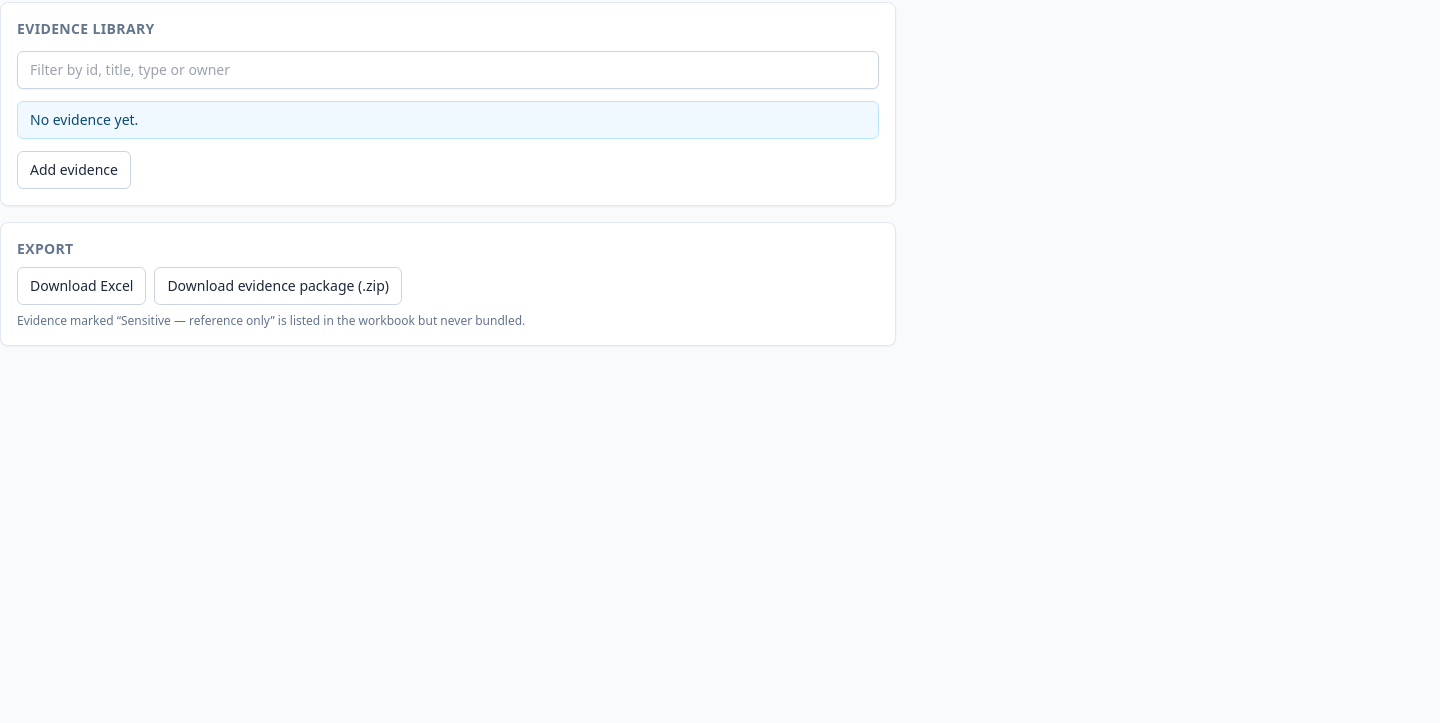
Test: Tier 2 — evidence › rejects code evidence without a pinned commit SHA
The width and height of the screenshot is (1440, 723).
Click the button "Add evidence": (74, 170) [17,151,131,189]
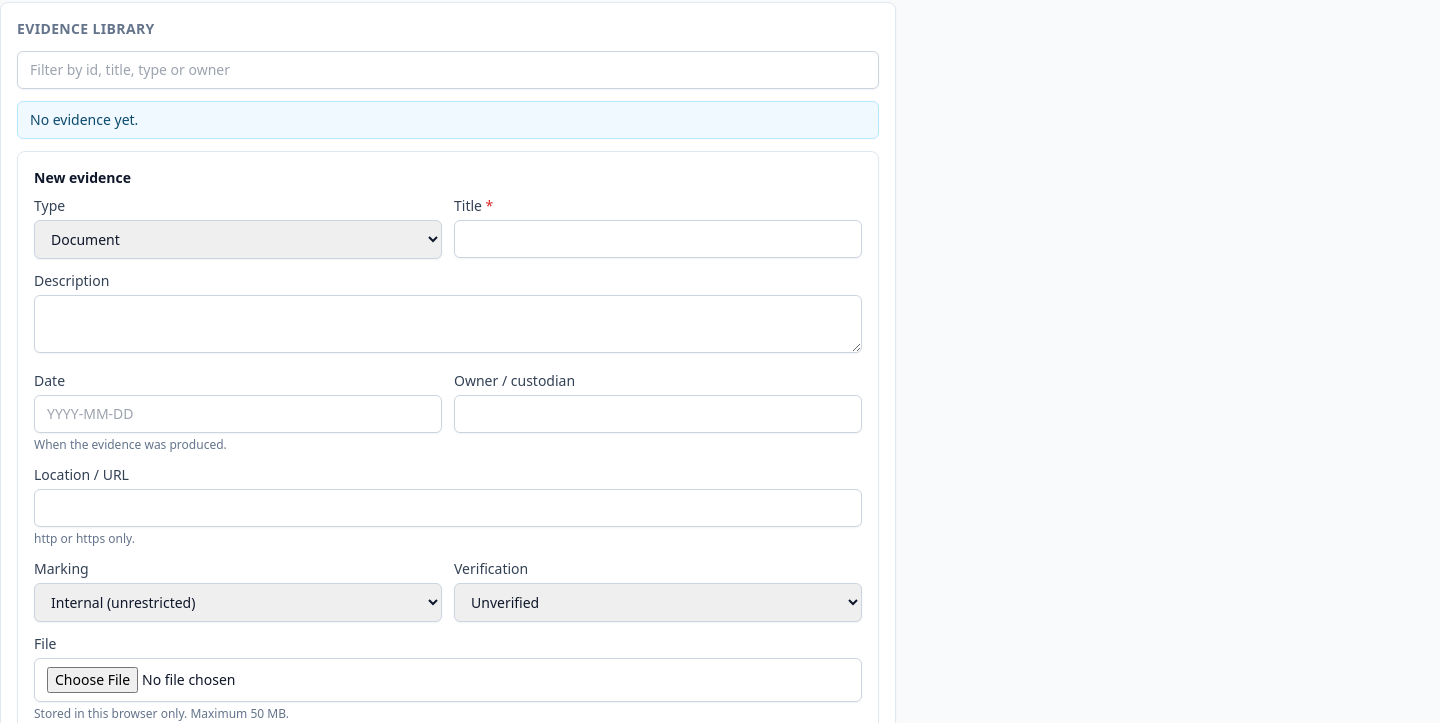
Select "Code repository" in the dropdown labelled "Type": (238, 240) [34,220,442,259]
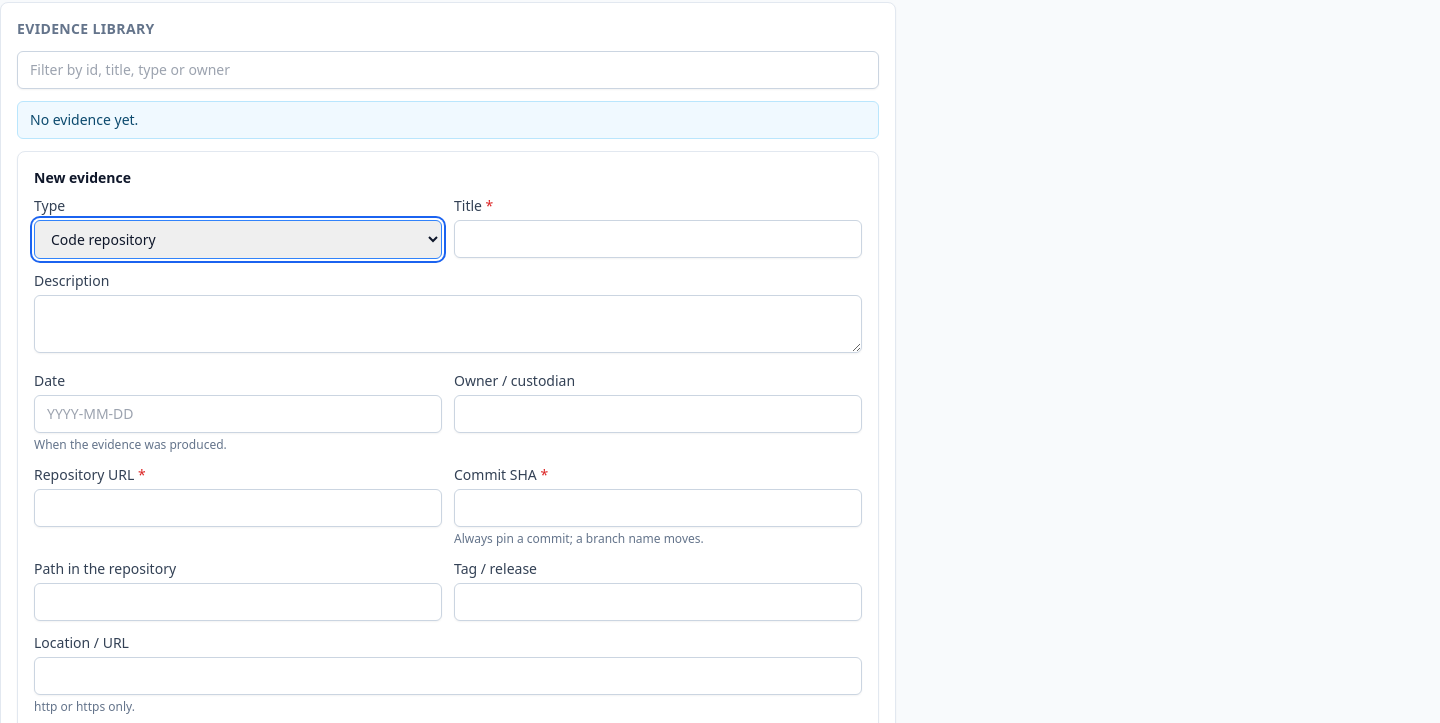
In the field labelled "Title *": (658, 239) [454,220,862,258], type "Firmware"
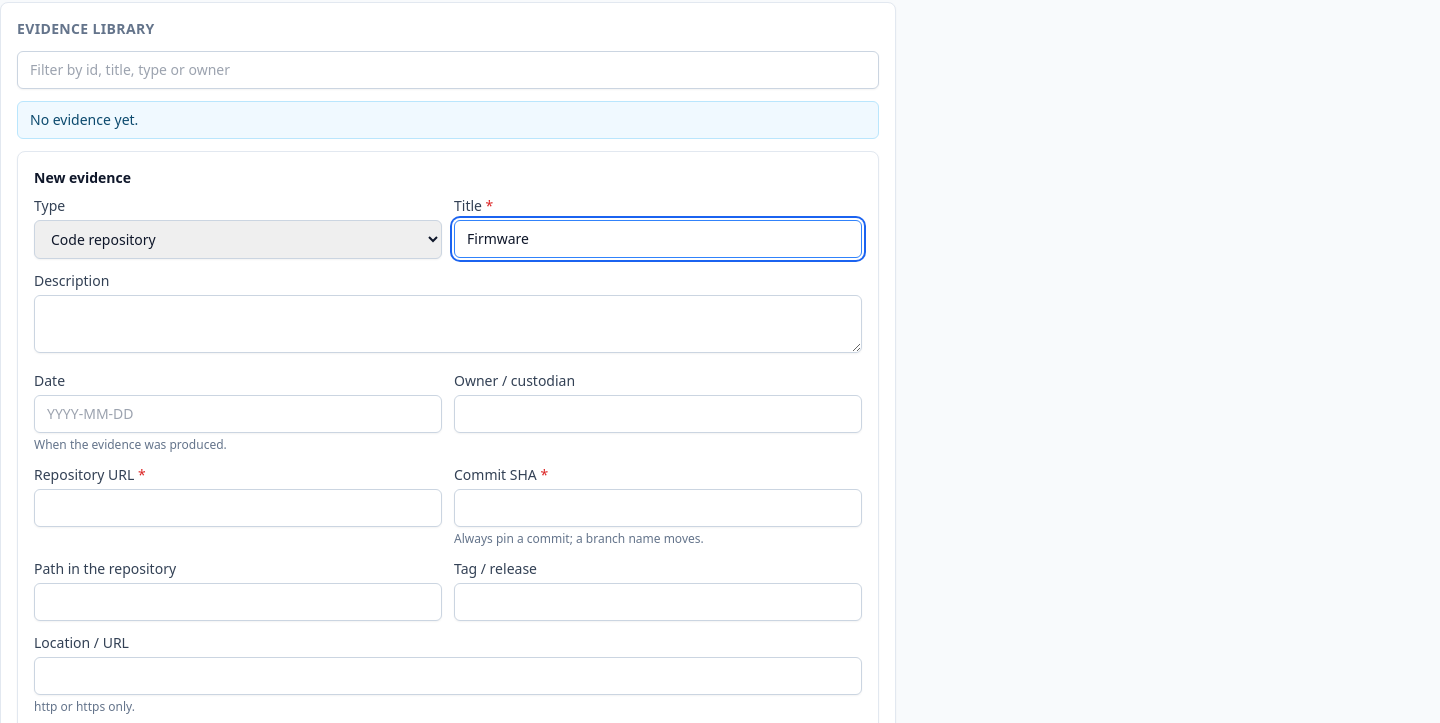
In the field labelled "Repository URL *": (238, 508) [34,489,442,527], type "https://example.org/repo"
(page scrolled)
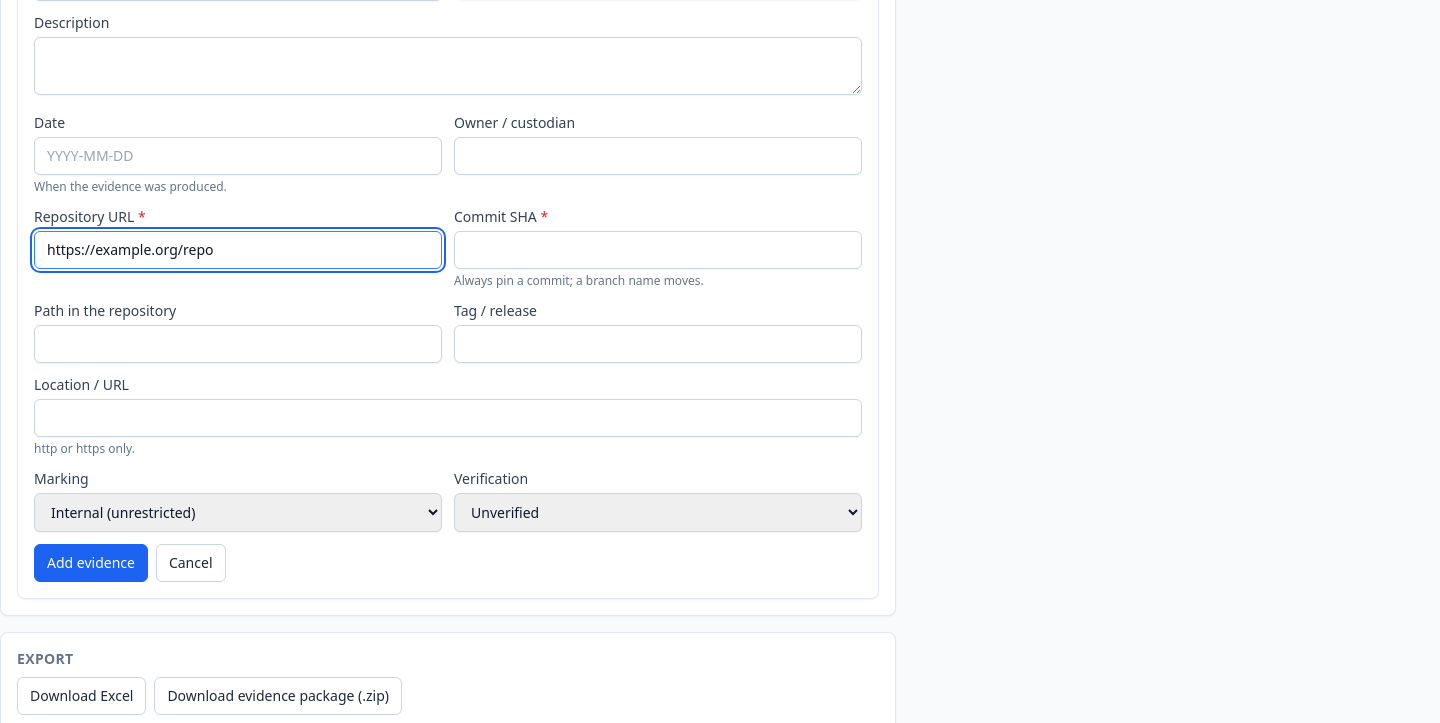
Click the button "Add evidence": (91, 563) [34,544,148,582]
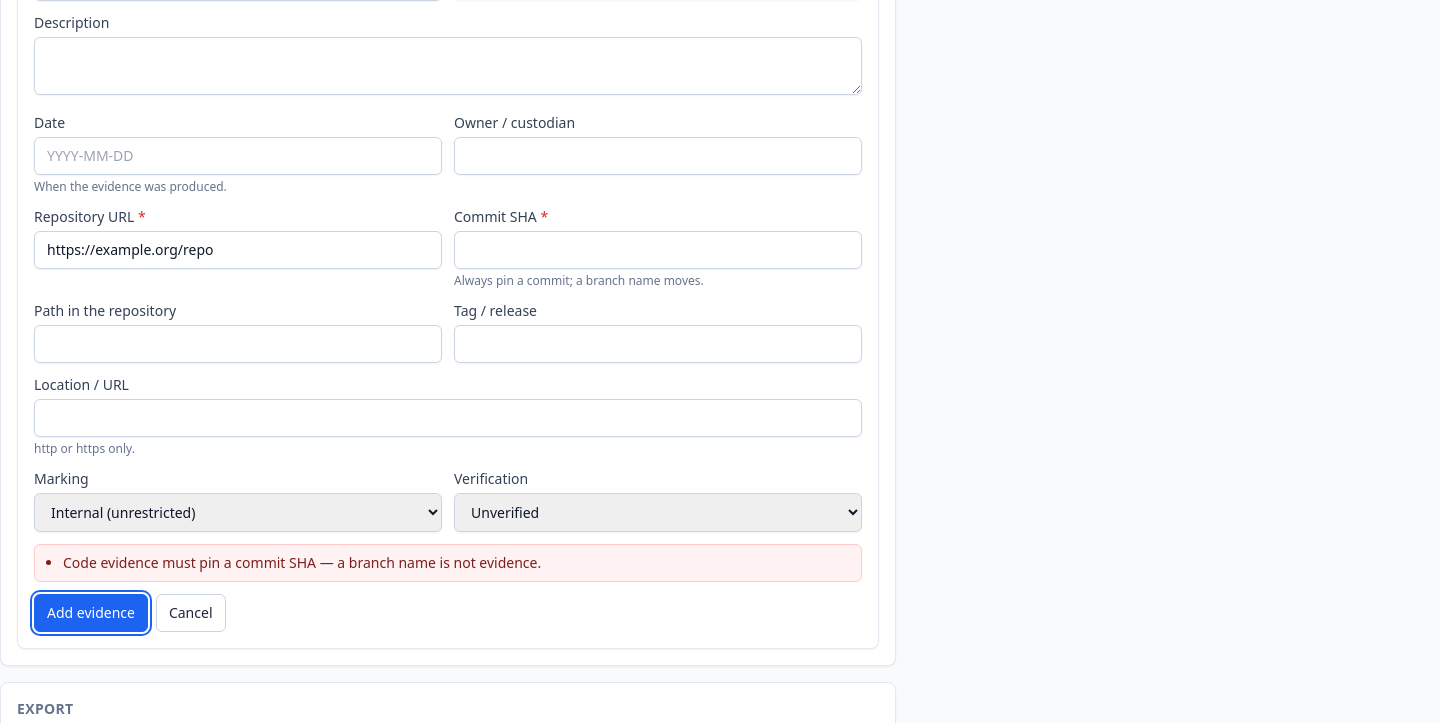
Check: the message shows "commit SHA", box [63,553,541,572]
